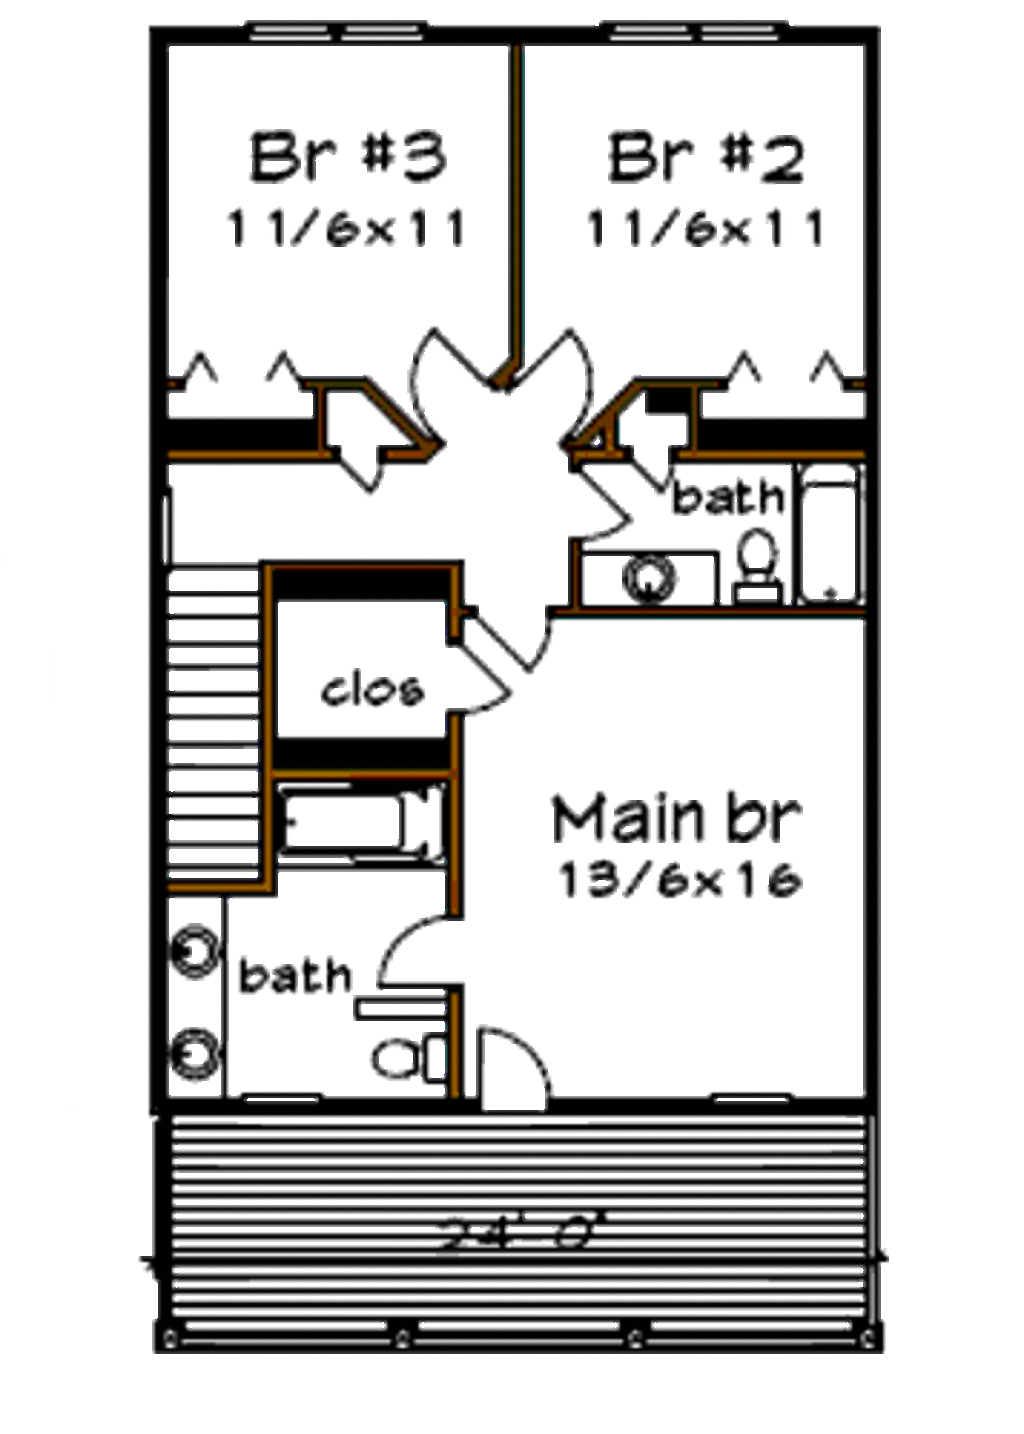door: (397, 320, 496, 445), (355, 913, 473, 995), (501, 329, 588, 429), (439, 626, 521, 723), (557, 453, 644, 544), (455, 586, 546, 670), (468, 1031, 559, 1106)
large_sink: (348, 1026, 453, 1090), (730, 506, 781, 611)
small_sink: (149, 889, 244, 1100), (569, 540, 730, 613)
stairs: (157, 522, 277, 887)
tub: (264, 764, 468, 871), (790, 459, 859, 601)
window: (235, 9, 437, 55), (600, 11, 795, 53)
